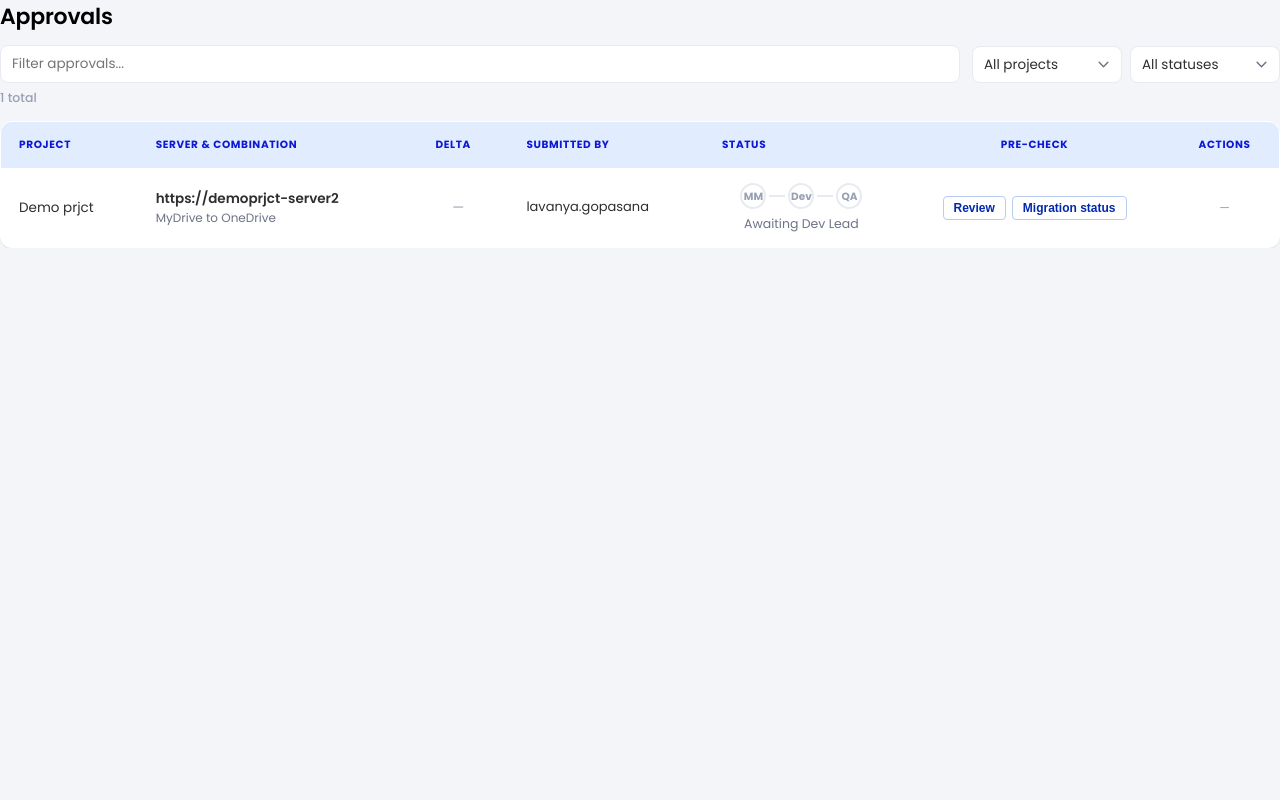
Test: ApprovalsPage › a failed status read is reported rather than shown as an empty result
The image size is (1280, 800).
Check: the cell "Demo prjct" is shown, box [0,168,138,248]
Click the button "Migration status".
click(1069, 208)  # box [1012,196,1127,220]
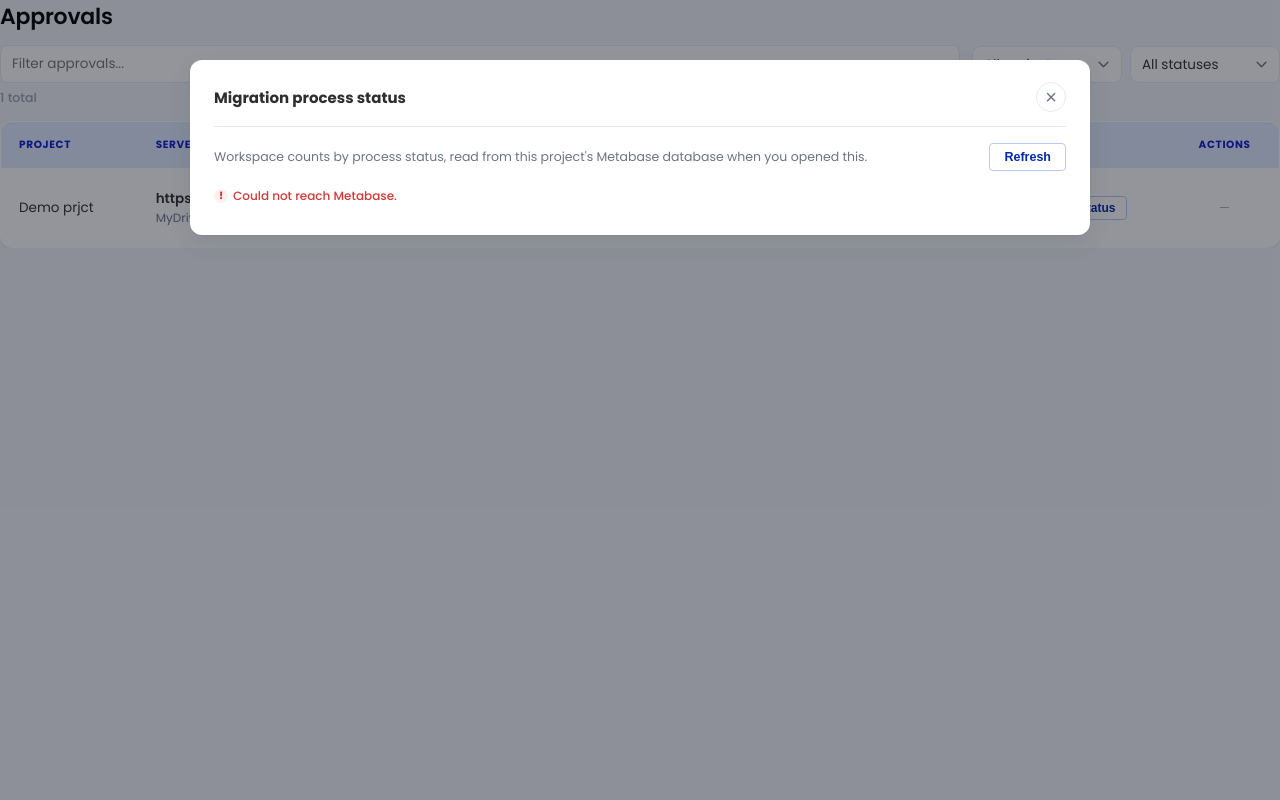
Check: the text "Could not reach Metabase." is shown, box [233,187,397,204]
